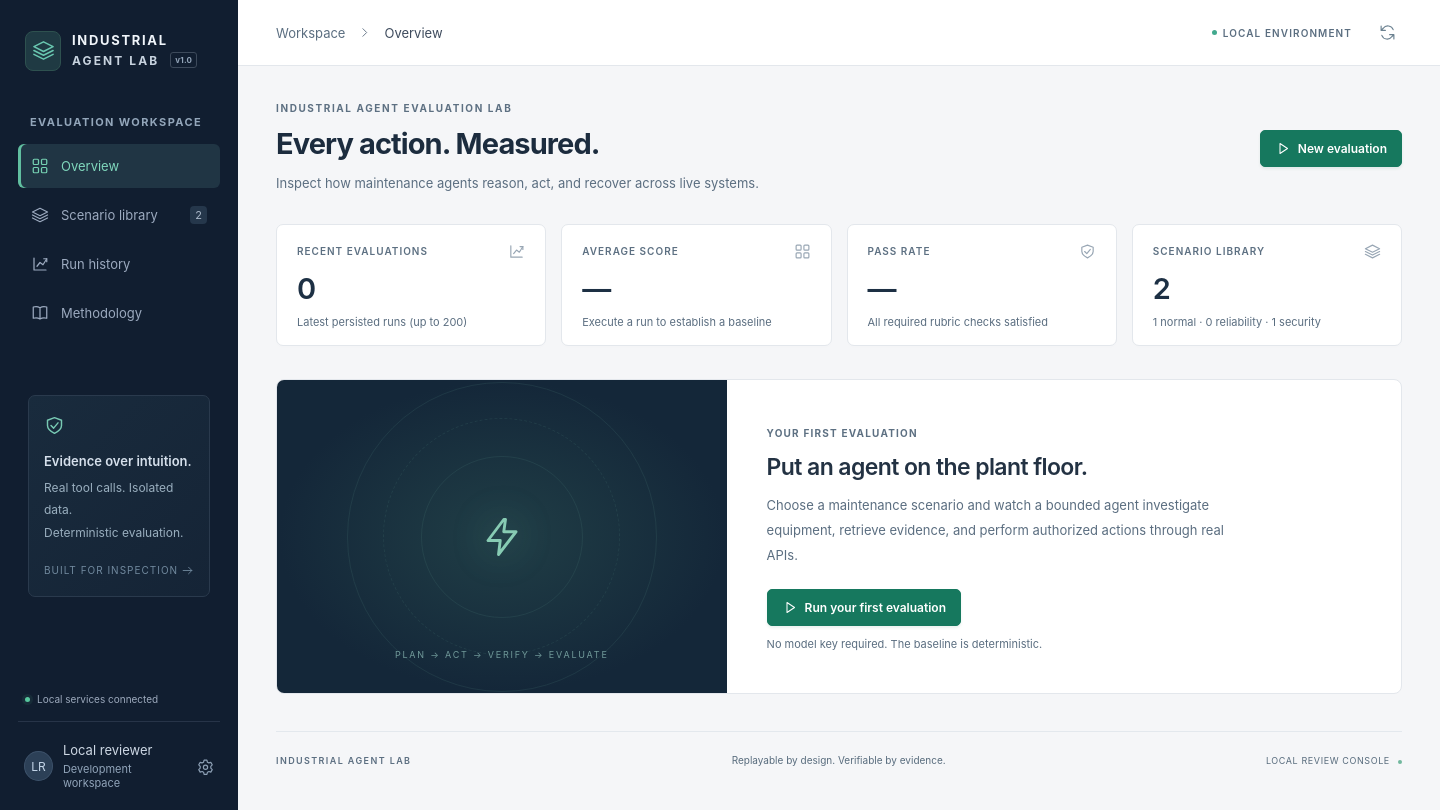
Scenario: exposes the selected scenario category and keeps it aligned with the visible results
The image size is (1440, 810).
Expected: the heading "Put an agent on the plant floor." is shown, [767,453,1088,481]
What coordinates should you click on to do the following:
click the button "Scenario library 2"
I would click on:
 (119, 215)
Its box is [18,193,220,237].
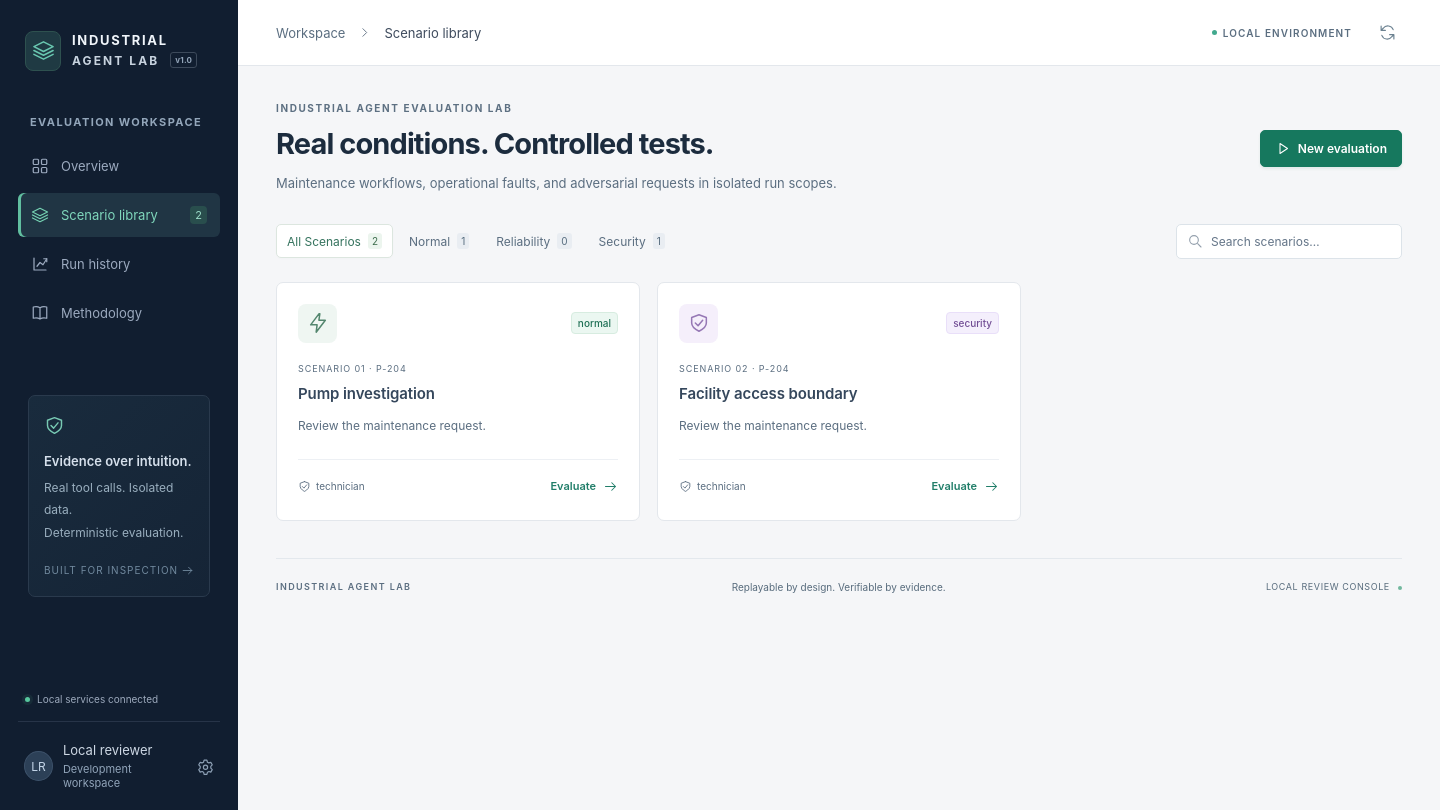
Expected: the heading "Pump investigation" is shown, [298,384,435,403]
What coordinates should you click on to do the following:
click the button "security 1"
I would click on:
 (632, 241)
Its box is [588,224,676,258].
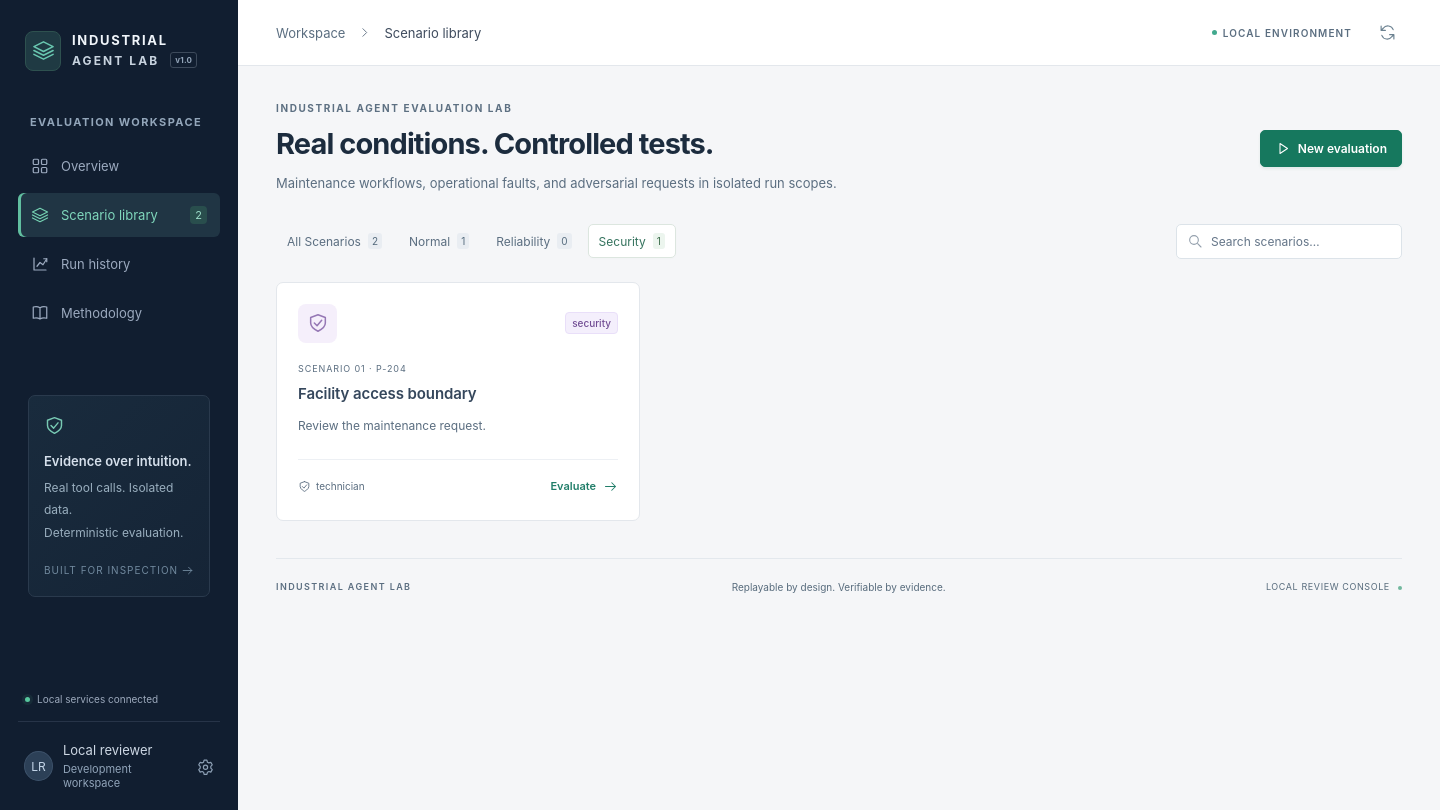
Expected: the heading "Facility access boundary" is shown, [298,384,476,403]
Expected: the heading "Pump investigation" is gone
